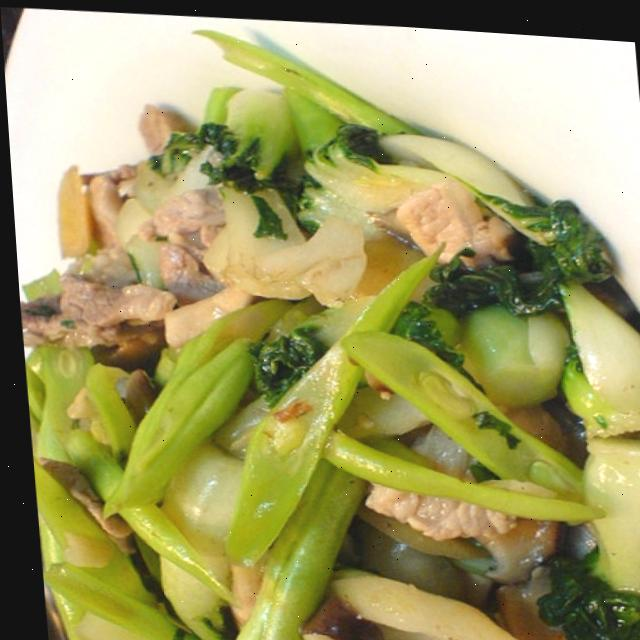蔬菜料理: (5, 44, 640, 640)
